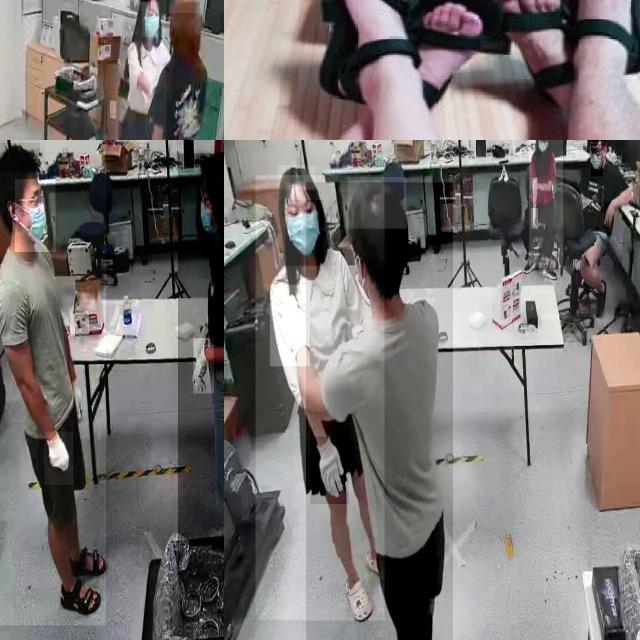Sandals: (319, 0, 420, 97), (561, 0, 640, 80)
face_mask: (15, 179, 55, 252), (286, 200, 324, 266), (196, 174, 218, 238), (142, 3, 159, 37), (591, 144, 603, 176), (535, 140, 550, 162)
glasses: (27, 191, 47, 210)
hand_glove: (270, 284, 310, 366), (310, 437, 350, 505), (44, 432, 74, 486), (193, 338, 214, 394)
hand_noglove: (604, 202, 614, 229), (531, 208, 539, 230), (530, 177, 539, 190)
head_nohelmet: (347, 177, 407, 229), (0, 143, 40, 173), (278, 166, 316, 190), (199, 151, 224, 176), (168, 0, 199, 14)
person: (306, 182, 453, 640), (256, 175, 384, 621), (0, 140, 106, 626), (177, 153, 224, 546), (101, 0, 204, 140), (574, 140, 637, 321), (101, 0, 166, 140), (528, 140, 563, 268)
shoes: (590, 276, 609, 321), (542, 256, 558, 281), (523, 253, 536, 276)
